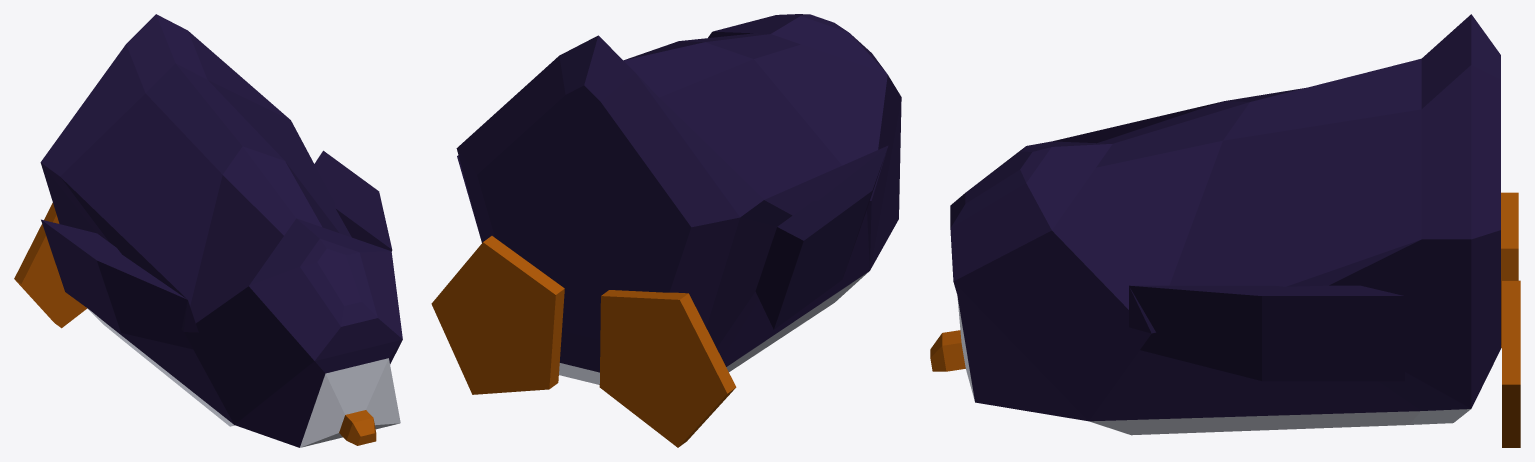
Rendered from sledding_prototype_Flip.glb.
3 views of the same model, side by side, from view 1: azimuth 30°, elevation 25°; view 2: azimuth 150°, elevation 25°; view 3: azimuth 270°, elevation 25° (orthographic). The views are drawn at different scales.
Parts seen in each view (by area): view 1: Cylinder; view 2: Cylinder; view 3: Cylinder.
Part boxes in pixels (bbox=[...]): Cylinder: bbox=[14, 14, 402, 447]; Cylinder: bbox=[431, 14, 901, 447]; Cylinder: bbox=[930, 14, 1520, 447].
Size of the model in its own units: 2.33 by 2.38 by 3.3.
